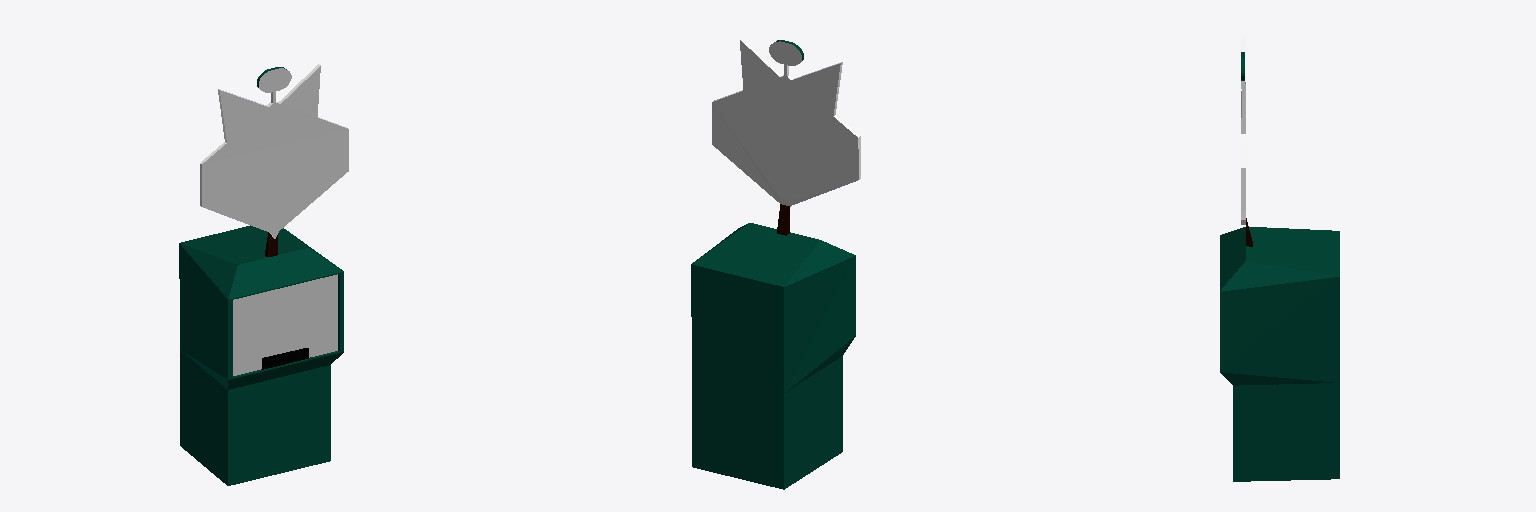
File: Kiosk2_AirDrop.obj
3 views of the same model, side by side, from view 1: azimuth 30°, elevation 25°; view 2: azimuth 150°, elevation 25°; view 3: azimuth 270°, elevation 25° (orthographic).
Parts seen in each view (by area): view 1: Kiosk_Cube.003, Airdrop_Cube.001, Frame_Plane; view 2: Kiosk_Cube.003, Airdrop_Cube.001; view 3: Kiosk_Cube.003, Airdrop_Cube.001.
Part boxes in pixels (x1,y1,x2,y2): Kiosk_Cube.003: (179, 225, 343, 485); Airdrop_Cube.001: (200, 64, 348, 256); Frame_Plane: (233, 274, 337, 375); Kiosk_Cube.003: (691, 223, 855, 489); Airdrop_Cube.001: (712, 38, 860, 235); Kiosk_Cube.003: (1220, 227, 1339, 481); Airdrop_Cube.001: (1241, 35, 1252, 246).
Size of the model in its own units: 3.19 by 8.34 by 2.28.